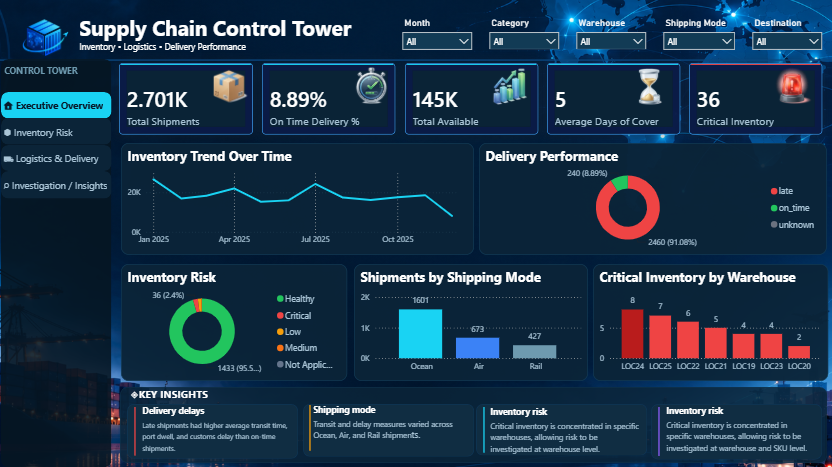

The page's visual inventory and layout, read from the dashboard file:
{"tool":"powerbi","page":{"name":"Executive Overview","canvas":[1280,720],"ordinal":0},"visuals":[{"type":"cardVisual","fields":{"Data":["fact_inventory.Total Available"]},"box":[622.5,96.2,205,110],"z":0},{"type":"cardVisual","fields":{"Data":["fact_shipments.Total Shipments"]},"box":[183.8,96.2,206.2,110],"z":1000},{"type":"cardVisual","fields":{"Data":["fact_shipments.On Time Delivery %"]},"box":[403.8,96.2,205,110],"z":2000},{"type":"cardVisual","fields":{"Data":["fact_inventory.Critical Inventory"]},"box":[1060,96.2,205,110],"z":3000},{"type":"cardVisual","fields":{"Data":["fact_inventory.Average Days of Cover"]},"box":[841.2,96.2,205,110],"z":4000},{"type":"clusteredColumnChart","title":"Critical Inventory by Warehouse","fields":{"Category":["fact_inventory.Warehouse_ID"],"Y":["fact_inventory.Critical Inventory"]},"box":[911.7,406.7,361.7,180],"z":5000},{"type":"donutChart","title":"Inventory Risk","fields":{"Category":["fact_inventory.Inventory_Risk"],"Y":["CountNonNull(fact_inventory.Inventory_Risk)"]},"box":[186.7,406.7,348.3,180],"z":6000},{"type":"donutChart","title":"Delivery Performance","fields":{"Category":["fact_shipments.Delivery_Performance"],"Y":["CountNonNull(fact_shipments.Delivery_Performance)"]},"box":[736.7,220,535,171.7],"z":7000},{"type":"clusteredColumnChart","title":"Shipments by Shipping Mode","fields":{"Category":["fact_shipments.Shipping_Mode"],"Y":["CountNonNull(fact_shipments.Shipment_ID)"]},"box":[545,406.7,360,180],"z":8000},{"type":"lineChart","title":"Inventory Trend Over Time","fields":{"Y":["fact_inventory.Total On Hand"],"Category":["dim_date.Date.Variation.Date Hierarchy.Year","dim_date.Date.Variation.Date Hierarchy.Month"]},"box":[186.7,220,543.3,171.7],"z":9000},{"type":"slicer","fields":{"Values":["dim_date.Date.Variation.Date Hierarchy.Month"]},"box":[608.9,22,127,55.6],"z":10000},{"type":"slicer","fields":{"Values":["dim_product.Category"]},"box":[742.9,22,127,54.4],"z":11000},{"type":"textbox","box":[117.1,15.7,521.4,87.1],"z":12000},{"type":"shape","box":[0,70,1280,43.3],"z":13000},{"type":"image","box":[1.8,0,133.6,119.1],"z":14000},{"type":"slicer","fields":{"Values":["dim_location_destination.Region"]},"box":[1147.8,22,127,70],"z":15000},{"type":"slicer","fields":{"Values":["fact_inventory.Warehouse_ID"]},"box":[876.8,22,127,54.4],"z":16000},{"type":"slicer","fields":{"Values":["fact_shipments.Shipping_Mode"]},"box":[1010.8,22,130,70],"z":17000},{"type":"image","box":[533.3,101.7,75,60],"z":18000},{"type":"image","box":[326.7,103.3,56.7,58.3],"z":19000},{"type":"image","box":[1183.3,101.7,75,60],"z":20000},{"type":"image","box":[963.3,103.3,75,60],"z":21000},{"type":"image","box":[748.3,103.3,75,60],"z":22000},{"type":"shape","box":[1.4,91.4,170,628.2],"z":23000},{"type":"shape","box":[184.4,595.6,1088.1,116.9],"z":24000},{"type":"actionButton","box":[1.4,141.4,170,40.9],"z":25000},{"type":"textbox","box":[195.6,591.2,140,34.4],"z":26000},{"type":"actionButton","box":[1.4,182.1,170,41.2],"z":27000},{"type":"group","id":"g1","title":"Group 1","box":[195.6,620.8,263.3,84.4],"z":28000},{"type":"actionButton","box":[1.4,223.4,170,40],"z":29000},{"type":"shape","box":[465.6,621.1,263.3,81.1],"z":30000},{"type":"actionButton","box":[1.4,263.4,170,42.5],"z":31000},{"type":"shape","box":[195.6,620.8,263.3,84.4],"z":31000,"group":"g1"},{"type":"shape","box":[1000.8,620.8,263.3,85.6],"z":31000,"group":"g2"},{"type":"shape","box":[732.2,621.1,263.3,79.3],"z":31000},{"type":"textbox","title":"Shipping mode","box":[476.7,620.8,237.8,84.4],"z":32000},{"type":"shape","box":[202.5,625.8,12.2,74.5],"z":32000,"group":"g1"},{"type":"shape","box":[739.1,625.8,12.2,70],"z":32000},{"type":"shape","box":[1007.7,625.8,12.2,75.5],"z":32000,"group":"g2"},{"type":"textbox","box":[1.4,96,168.2,45.5],"z":33000},{"type":"textbox","title":"Delivery delays","box":[214.7,622.8,238.3,79.8],"z":33000,"group":"g1"},{"type":"textbox","title":"Inventory risk","box":[1019.9,622.8,238.3,80.9],"z":33000,"group":"g2"},{"type":"textbox","title":"Inventory risk","box":[748.9,624.4,242.2,78.9],"z":33000},{"type":"group","id":"g2","title":"Group 1","box":[1000.8,620.8,263.3,85.8],"z":35000},{"type":"shape","box":[470,623.3,12.2,70],"z":36000}]}

Visuals, with their boxes on the page's 1280x720 design canvas (x1, y1, x2, y2). These are canvas units, not pixel positions in the 832x467 screenshot, which may show the page scaled, cropped or inside an application window:
cardVisual - fact_inventory.Total Available: pyautogui.locateOnScreen(622, 96, 828, 206)
cardVisual - fact_shipments.Total Shipments: pyautogui.locateOnScreen(184, 96, 390, 206)
cardVisual - fact_shipments.On Time Delivery %: pyautogui.locateOnScreen(404, 96, 609, 206)
cardVisual - fact_inventory.Critical Inventory: pyautogui.locateOnScreen(1060, 96, 1265, 206)
cardVisual - fact_inventory.Average Days of Cover: pyautogui.locateOnScreen(841, 96, 1046, 206)
"Critical Inventory by Warehouse" clusteredColumnChart: pyautogui.locateOnScreen(912, 407, 1273, 587)
"Inventory Risk" donutChart: pyautogui.locateOnScreen(187, 407, 535, 587)
"Delivery Performance" donutChart: pyautogui.locateOnScreen(737, 220, 1272, 392)
"Shipments by Shipping Mode" clusteredColumnChart: pyautogui.locateOnScreen(545, 407, 905, 587)
"Inventory Trend Over Time" lineChart: pyautogui.locateOnScreen(187, 220, 730, 392)
slicer - dim_date.Date.Variation.Date Hierarchy.Month: pyautogui.locateOnScreen(609, 22, 736, 78)
slicer - dim_product.Category: pyautogui.locateOnScreen(743, 22, 870, 76)
textbox: pyautogui.locateOnScreen(117, 16, 638, 103)
shape: pyautogui.locateOnScreen(0, 70, 1280, 113)
image: pyautogui.locateOnScreen(2, 0, 135, 119)
slicer - dim_location_destination.Region: pyautogui.locateOnScreen(1148, 22, 1275, 92)
slicer - fact_inventory.Warehouse_ID: pyautogui.locateOnScreen(877, 22, 1004, 76)
slicer - fact_shipments.Shipping_Mode: pyautogui.locateOnScreen(1011, 22, 1141, 92)
image: pyautogui.locateOnScreen(533, 102, 608, 162)
image: pyautogui.locateOnScreen(327, 103, 383, 162)
image: pyautogui.locateOnScreen(1183, 102, 1258, 162)
image: pyautogui.locateOnScreen(963, 103, 1038, 163)
image: pyautogui.locateOnScreen(748, 103, 823, 163)
shape: pyautogui.locateOnScreen(1, 91, 171, 720)
shape: pyautogui.locateOnScreen(184, 596, 1272, 712)
actionButton: pyautogui.locateOnScreen(1, 141, 171, 182)
textbox: pyautogui.locateOnScreen(196, 591, 336, 626)
actionButton: pyautogui.locateOnScreen(1, 182, 171, 223)
"Group 1" group: pyautogui.locateOnScreen(196, 621, 459, 705)
actionButton: pyautogui.locateOnScreen(1, 223, 171, 263)
shape: pyautogui.locateOnScreen(466, 621, 729, 702)
actionButton: pyautogui.locateOnScreen(1, 263, 171, 306)
shape: pyautogui.locateOnScreen(196, 621, 459, 705)
shape: pyautogui.locateOnScreen(1001, 621, 1264, 706)
shape: pyautogui.locateOnScreen(732, 621, 996, 700)
"Shipping mode" textbox: pyautogui.locateOnScreen(477, 621, 714, 705)
shape: pyautogui.locateOnScreen(202, 626, 215, 700)
shape: pyautogui.locateOnScreen(739, 626, 751, 696)
shape: pyautogui.locateOnScreen(1008, 626, 1020, 701)
textbox: pyautogui.locateOnScreen(1, 96, 170, 142)
"Delivery delays" textbox: pyautogui.locateOnScreen(215, 623, 453, 703)
"Inventory risk" textbox: pyautogui.locateOnScreen(1020, 623, 1258, 704)
"Inventory risk" textbox: pyautogui.locateOnScreen(749, 624, 991, 703)
"Group 1" group: pyautogui.locateOnScreen(1001, 621, 1264, 707)
shape: pyautogui.locateOnScreen(470, 623, 482, 693)
